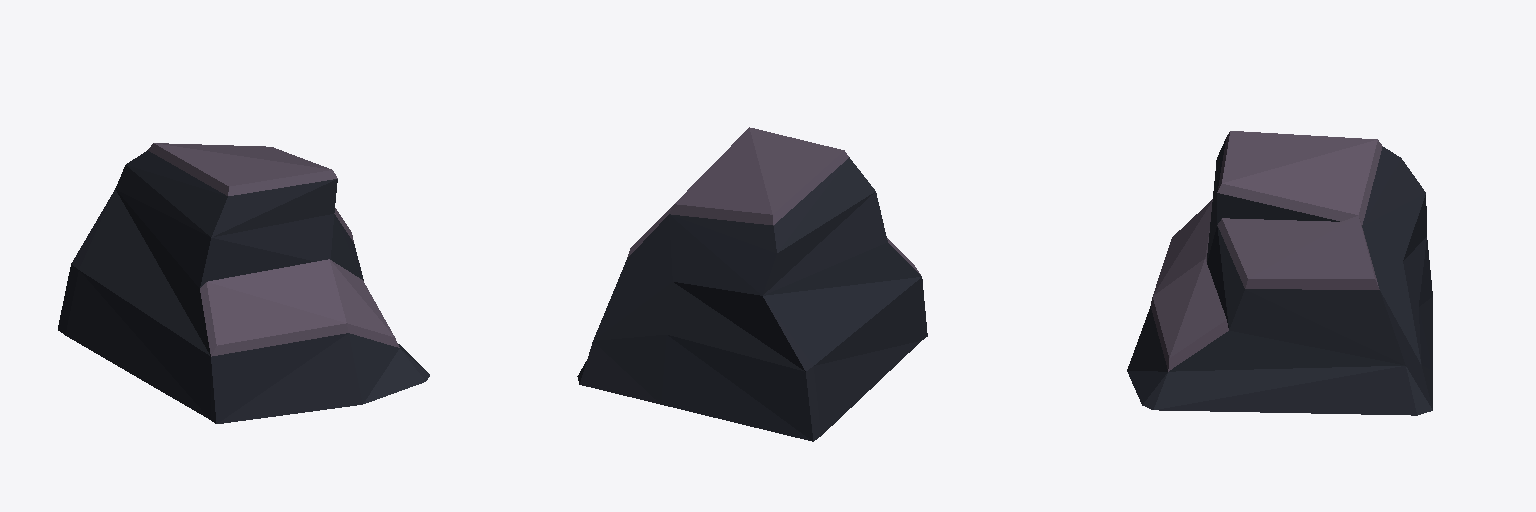
Rendered from Rock_Snow_3.obj.
3 views of the same model, side by side, from view 1: azimuth 30°, elevation 25°; view 2: azimuth 150°, elevation 25°; view 3: azimuth 270°, elevation 25° (orthographic).
Parts seen in each view (by area): view 1: Rock_Snow_3_Cube.079; view 2: Rock_Snow_3_Cube.079; view 3: Rock_Snow_3_Cube.079.
Boxes of the visible parts, x1=… form: Rock_Snow_3_Cube.079: x1=58, y1=143, x2=429, y2=423; Rock_Snow_3_Cube.079: x1=577, y1=127, x2=927, y2=441; Rock_Snow_3_Cube.079: x1=1127, y1=131, x2=1432, y2=415.
Bounding box in the file's own units: 0.7384 × 0.579 × 0.8026.